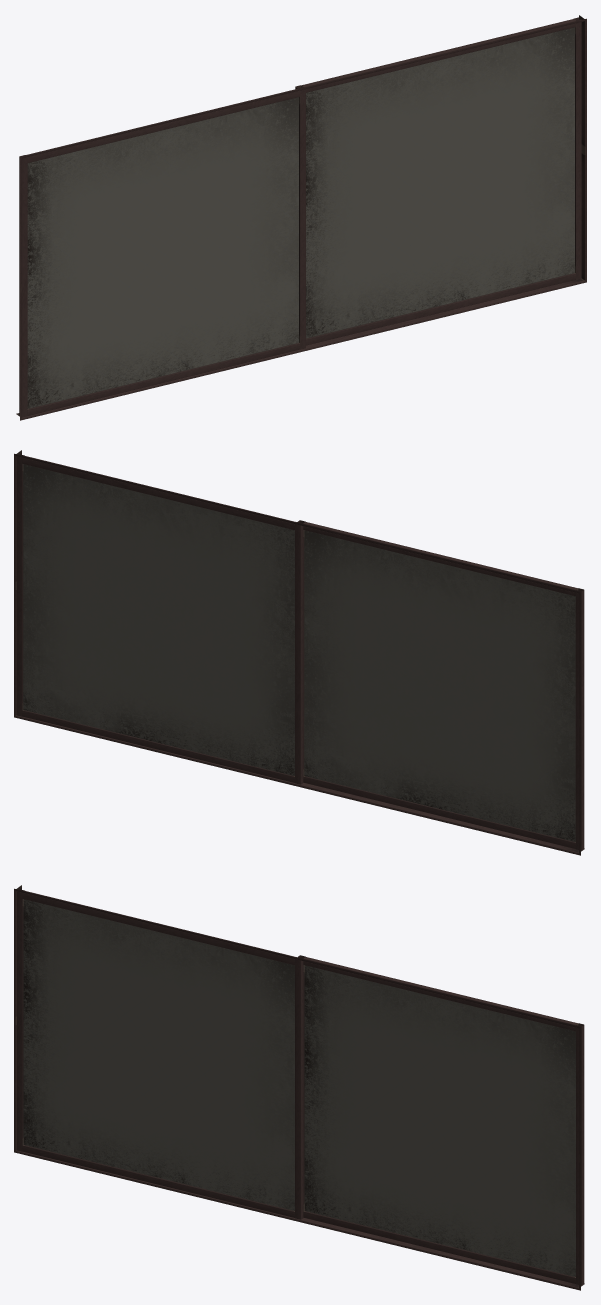
File: Window_300_Large_01.FBX
The picture shows the model from 3 angles, top to bottom: view 1: azimuth 30°, elevation 25°; view 2: azimuth 150°, elevation 25°; view 3: azimuth 330°, elevation 25°; orthographic projection.
Parts seen in each view (by area): view 1: Window_300_Large_01; view 2: Window_300_Large_01; view 3: Window_300_Large_01.
Part boxes in pixels (x1,y1,x2,y2): Window_300_Large_01: (16, 15, 586, 420); Window_300_Large_01: (14, 450, 584, 855); Window_300_Large_01: (14, 885, 584, 1290).
Size of the model in its own units: 270 by 120 by 5.
